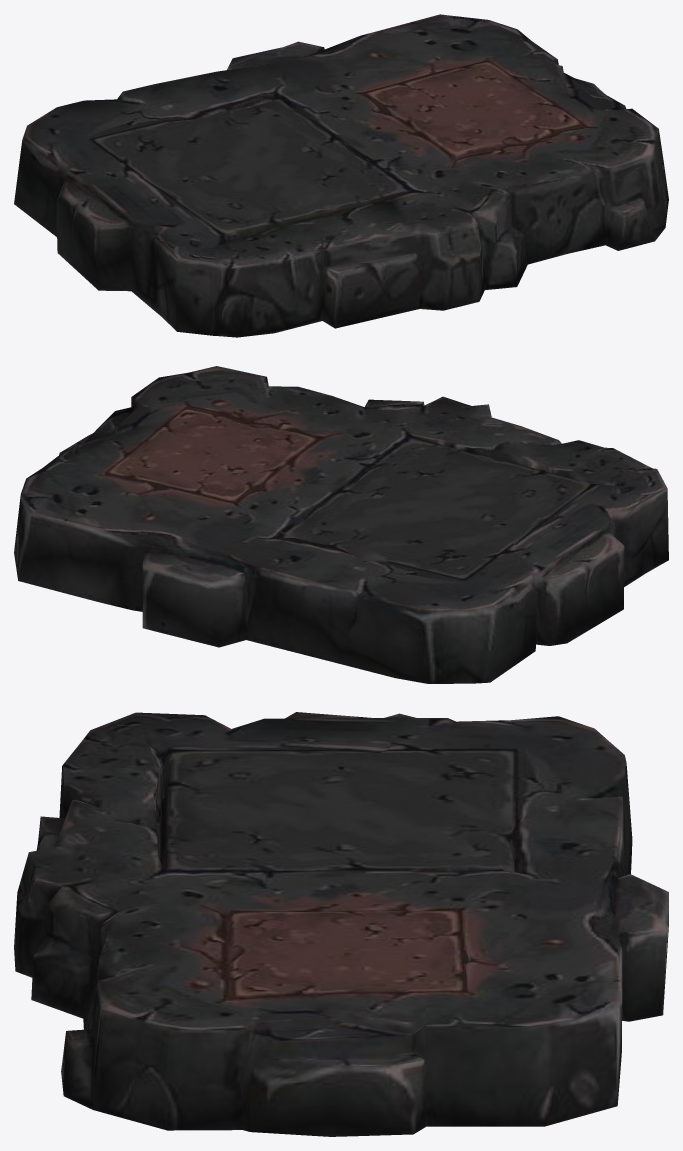
File: groundcave.glb
3 views of the same model, one above another, from view 1: azimuth 30°, elevation 25°; view 2: azimuth 150°, elevation 25°; view 3: azimuth 270°, elevation 25° (orthographic). The views are drawn at different scales.
Visible parts, largest first — view 1: Mesh_0; view 2: Mesh_0; view 3: Mesh_0.
Boxes of the visible parts, left/top/right/bottom form: Mesh_0: left=14, top=14, right=668, bottom=337; Mesh_0: left=14, top=366, right=668, bottom=683; Mesh_0: left=14, top=712, right=668, bottom=1136.
Bounding box in the file's own units: 1.91 × 0.253 × 1.54.
1 material, 1 textured.
